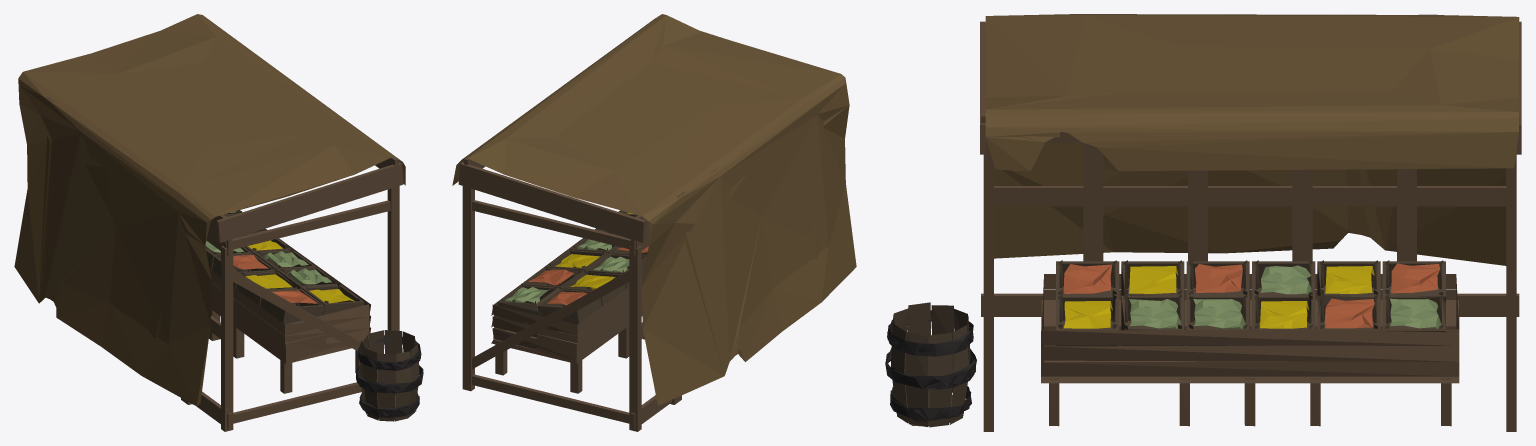
Rendered from market-stall.lod0.glb.
3 renders of one model, left to right at view 1: azimuth 30°, elevation 25°; view 2: azimuth 150°, elevation 25°; view 3: azimuth 270°, elevation 25°, orthographic. The views are drawn at different scales.
Visible parts, largest first — view 1: Stall_Fabric 22_0; view 2: Stall_Fabric 22_0; view 3: Stall_Fabric 22_0.
Boxes of the visible parts, x1,y1,x2,y2 form: Stall_Fabric 22_0: [14, 14, 423, 431]; Stall_Fabric 22_0: [452, 14, 856, 431]; Stall_Fabric 22_0: [885, 14, 1521, 431].
Size of the model in its own units: 2.74 by 2.69 by 4.89.
